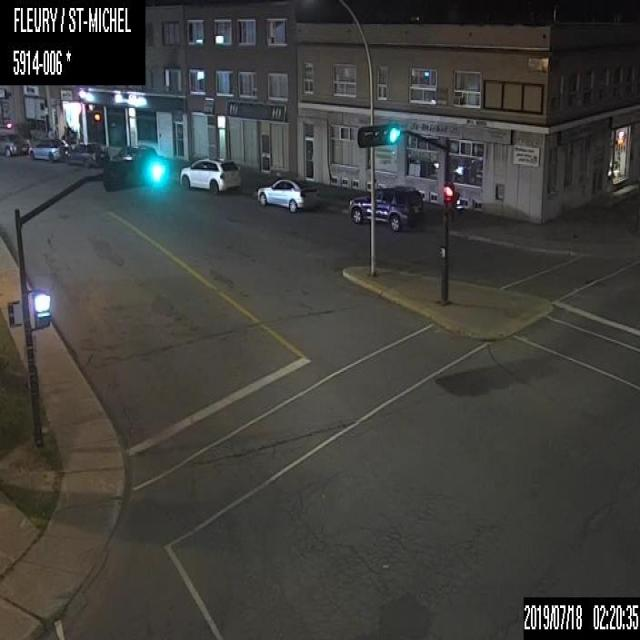vehicle: (346, 183, 423, 232), (178, 156, 240, 196), (255, 176, 320, 213), (64, 140, 109, 167), (27, 134, 68, 160), (1, 130, 30, 159), (111, 144, 157, 160)
